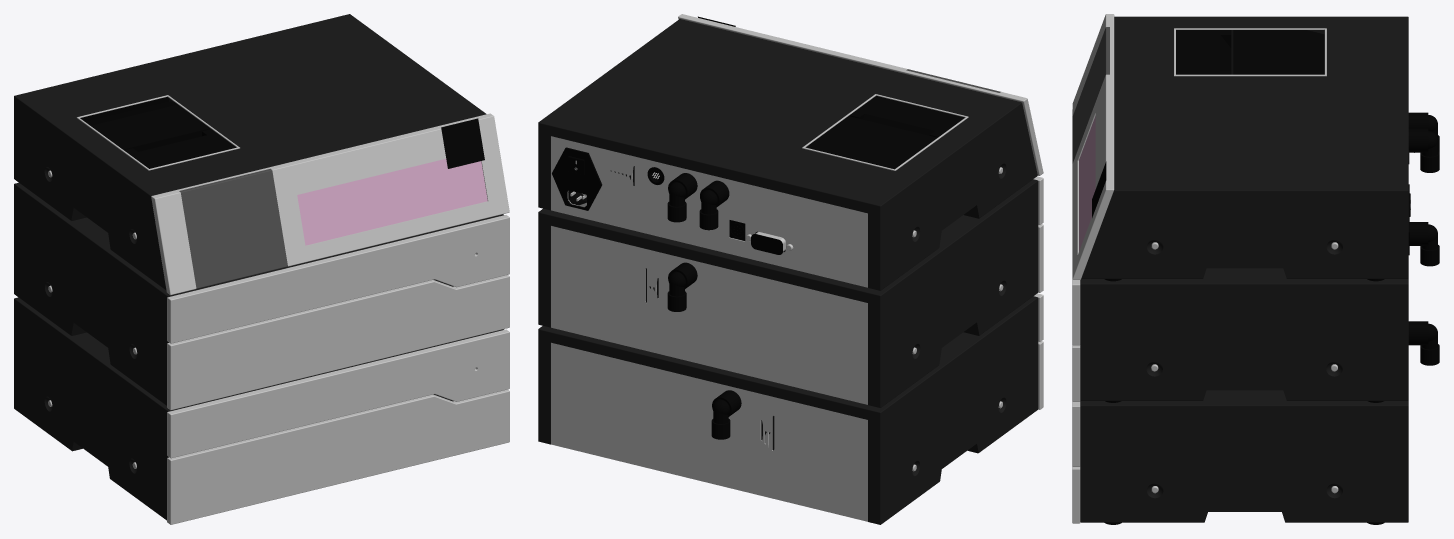
The model's file is D-Concept_2er.obj.
3 views of the same model, side by side, from view 1: azimuth 30°, elevation 25°; view 2: azimuth 150°, elevation 25°; view 3: azimuth 270°, elevation 25° (orthographic). The views are drawn at different scales.
Parts seen in each view (by area): view 1: object37.001, object65.001, object16.001, object45.001, object77.001, object20.001, object73.001, object14.003, object4.003, object1.003, object17.001, object3.003 (+2 smaller); view 2: object37.001, object61.001, object42.001, object45.001, object77.001, object70.001, object17.001, object14.003, object3.003, object19.001, object21.001, object31.001 (+3 smaller); view 3: object37.001, object45.001, object77.001, object14.003, object17.001, object3.003, object4.003, object1.003, object57.001, object21.001, object26.001, object39.001 (+5 smaller).
Boxes of the visible parts, <box> form: object37.001: <box>14,14,486,290</box>; object65.001: <box>167,389,509,524</box>; object16.001: <box>167,275,509,410</box>; object45.001: <box>14,182,503,405</box>; object77.001: <box>14,297,504,520</box>; object20.001: <box>167,215,509,343</box>; object73.001: <box>167,329,509,458</box>; object14.003: <box>151,113,509,295</box>; object4.003: <box>179,168,287,288</box>; object1.003: <box>297,159,487,245</box>; object17.001: <box>80,97,210,151</box>; object3.003: <box>124,129,236,168</box>; object37.001: <box>538,19,1037,290</box>; object61.001: <box>551,342,867,521</box>; object42.001: <box>551,226,867,404</box>; object45.001: <box>538,179,1038,407</box>; object77.001: <box>538,296,1038,524</box>; object70.001: <box>551,136,867,287</box>; object17.001: <box>807,116,937,169</box>; object14.003: <box>678,14,1043,175</box>; object3.003: <box>849,96,964,137</box>; object19.001: <box>552,147,602,210</box>; object21.001: <box>667,173,697,222</box>; object31.001: <box>699,180,729,230</box>; object37.001: <box>1081,16,1408,278</box>; object45.001: <box>1080,268,1408,400</box>; object77.001: <box>1080,390,1408,522</box>; object14.003: <box>1072,14,1114,279</box>; object17.001: <box>1233,30,1324,74</box>; object3.003: <box>1176,30,1231,74</box>; object4.003: <box>1072,27,1109,163</box>; object1.003: <box>1079,116,1095,251</box>; object57.001: <box>1408,321,1439,365</box>; object21.001: <box>1408,128,1439,172</box>; object26.001: <box>1409,222,1439,266</box>; object39.001: <box>1174,28,1326,76</box>.
Size of the model in its own units: 0.408 by 0.3681 by 0.3604.
